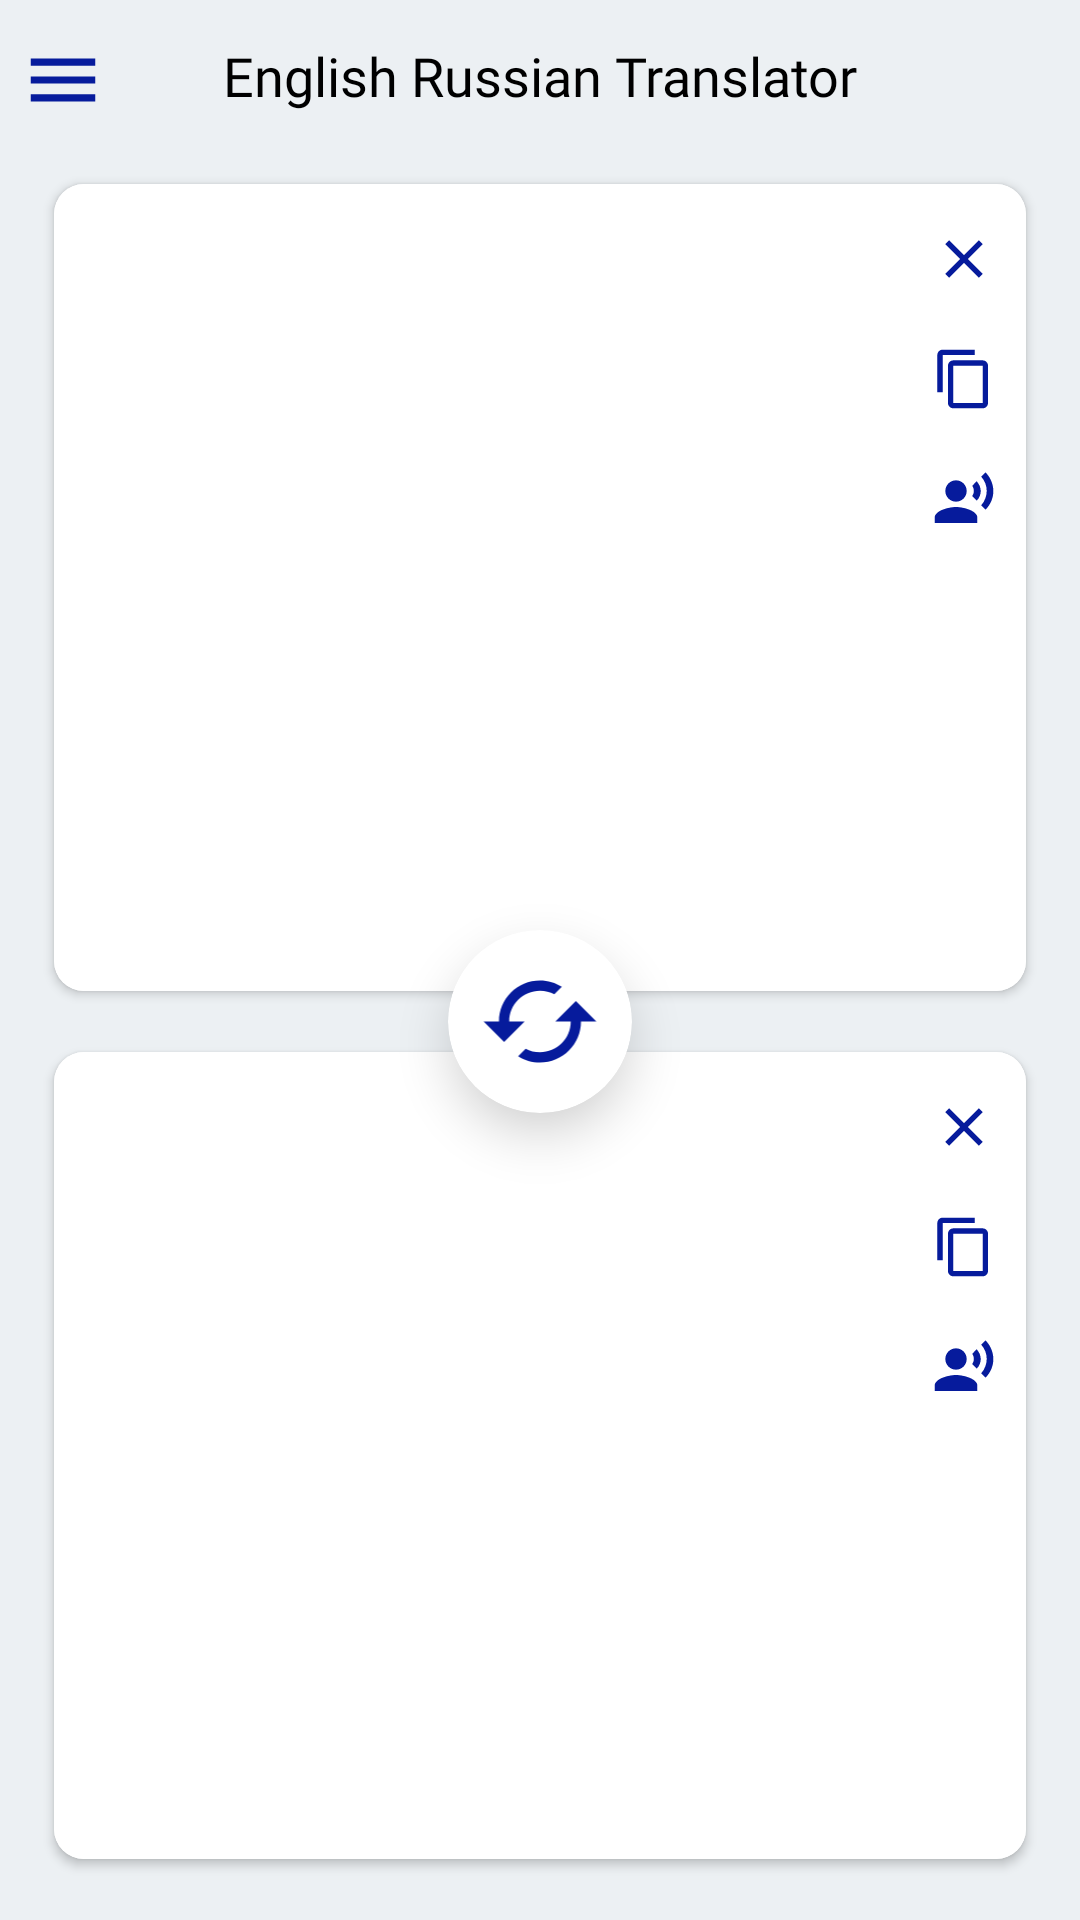

Icons on this 1080px×1920px Android screen, each with its box as (x1, y1, x2, y2):
cached: (483, 980, 597, 1063)
clear: (945, 240, 983, 278), (945, 1108, 983, 1146)
menu: (30, 58, 96, 102)
record voice over: (934, 472, 994, 523), (934, 1340, 994, 1391)
